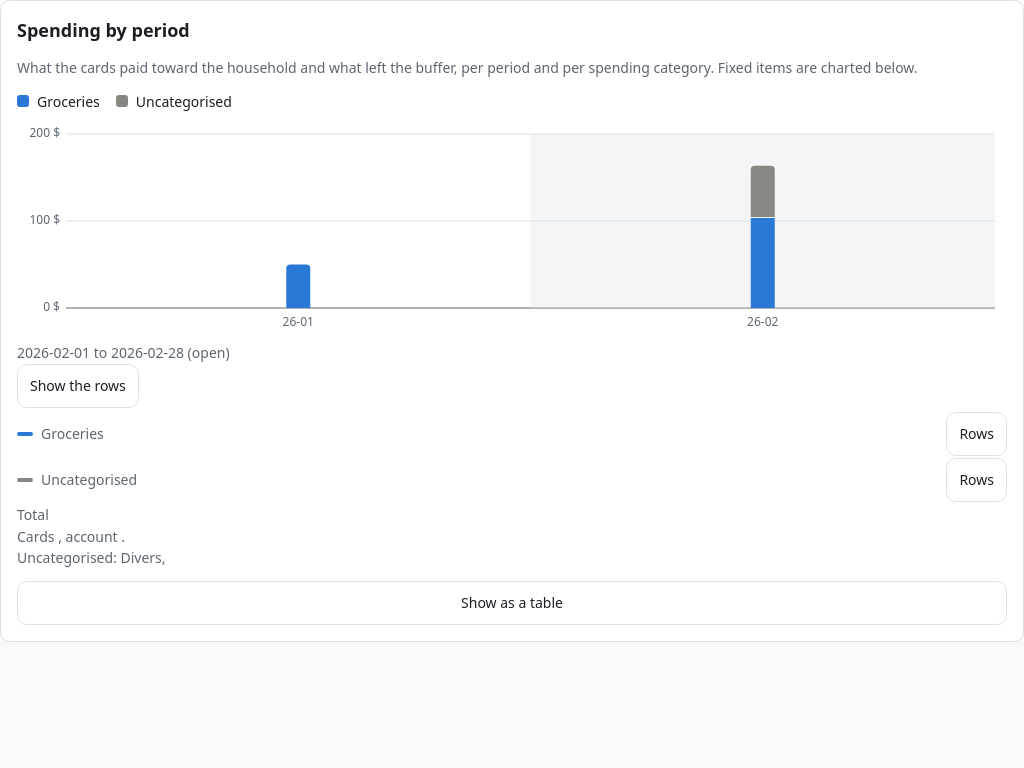
Scenario: another period's readout opens that period's days
Press Home in the slider, box x1=17 y1=124 x2=1007 y2=334
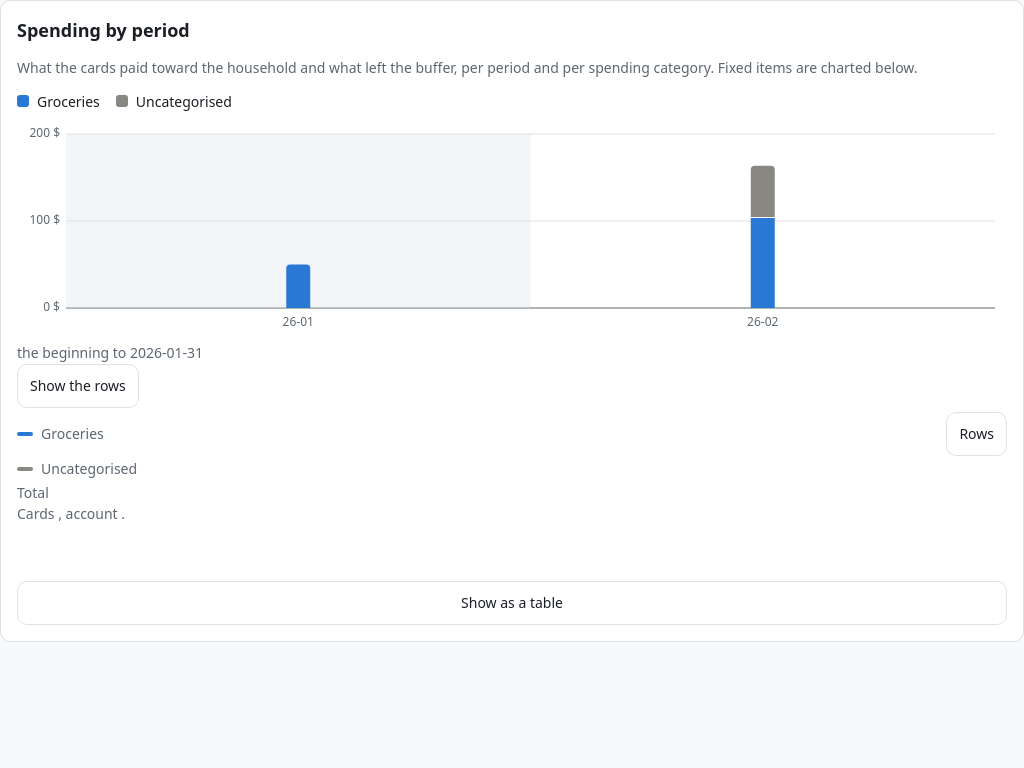
Click the button "Show the rows": (78, 386) x1=17 y1=364 x2=139 y2=408
(page scrolled)
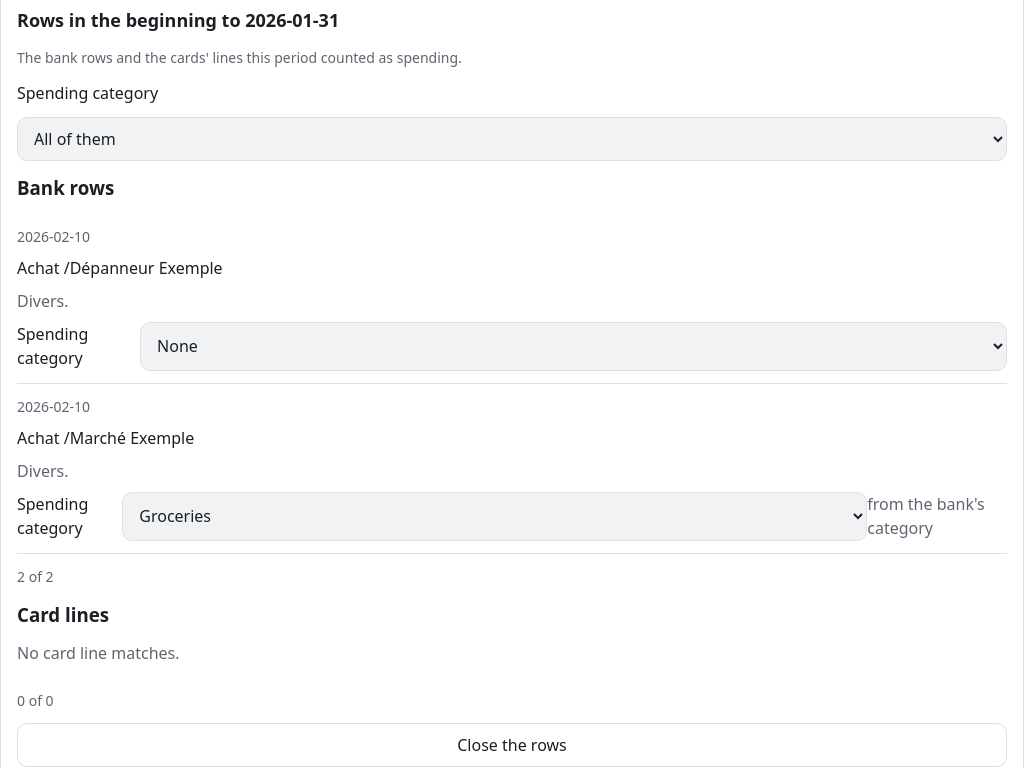
Now the list named "Rows in this period" is shown, box x1=17 y1=214 x2=1007 y2=554
